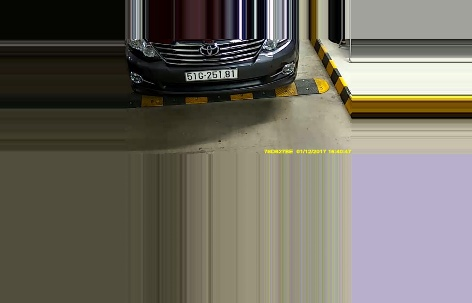plate: (183, 67, 238, 82)
